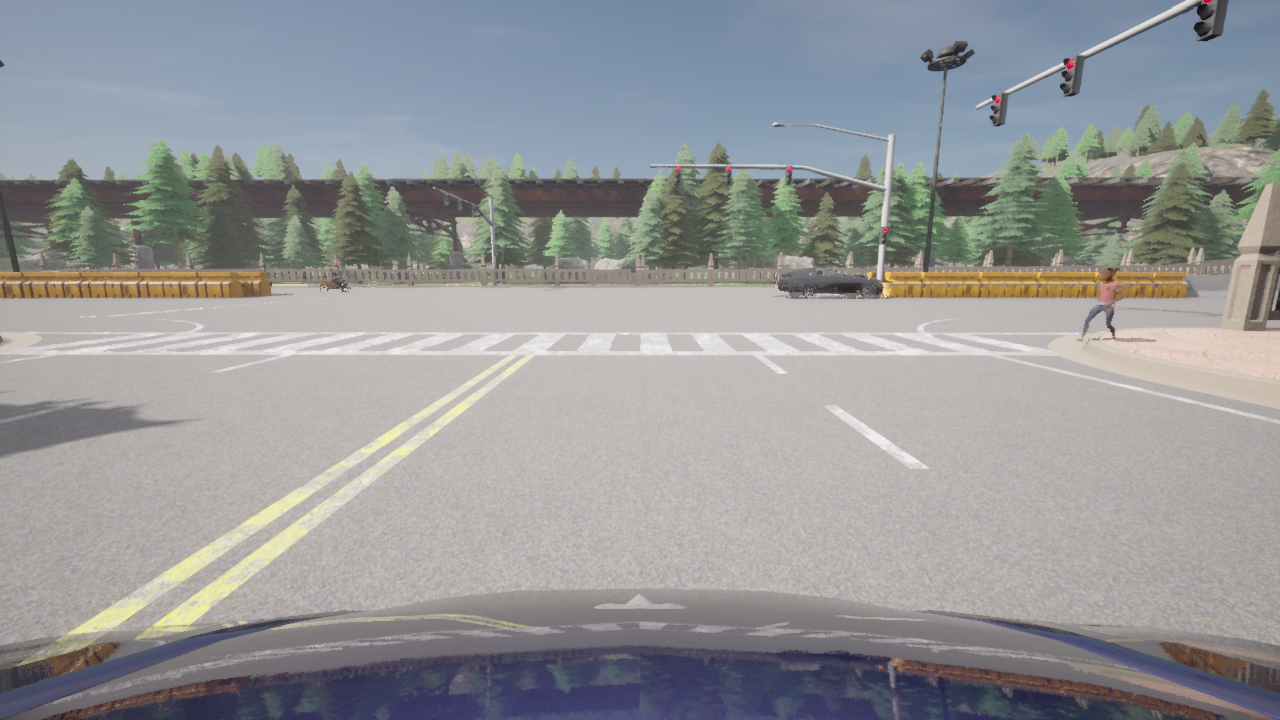cyclist: (0, 588, 1279, 719), (779, 267, 884, 299), (319, 274, 351, 293)
pedestrian: (1072, 268, 1123, 342), (502, 265, 509, 284), (511, 282, 517, 284)
